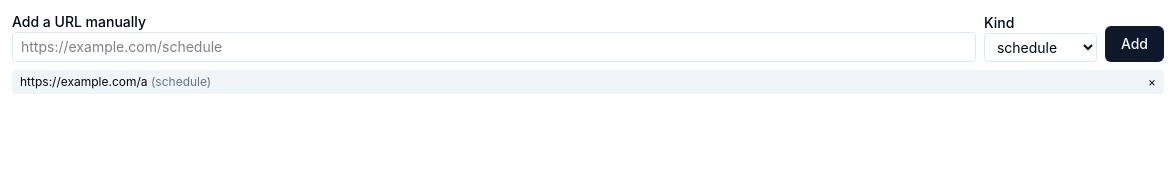
Scenario: ManualPageEntry › rejects a URL that duplicates another manual entry
The image size is (1176, 172).
Type "https://example.com/a" into the field named "manual url" at {"x": 494, "y": 47}, box x1=12 y1=32 x2=976 y2=62
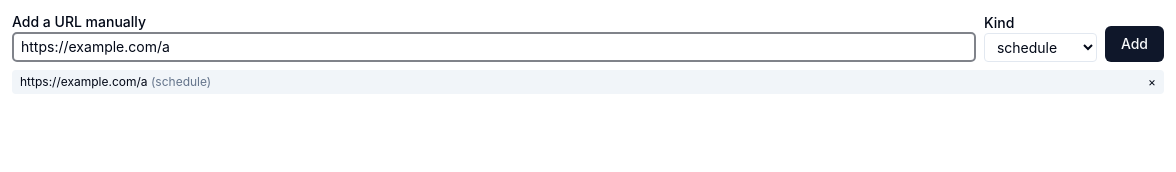
Click the button "Add" at {"x": 1134, "y": 44}, box x1=1105 y1=26 x2=1164 y2=62
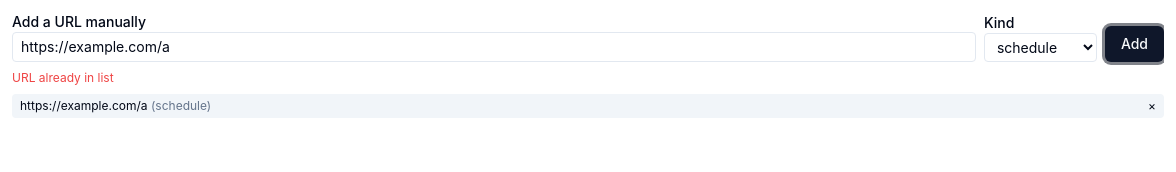
Expected: the text "URL already in list" is shown, x1=12 y1=70 x2=114 y2=85
